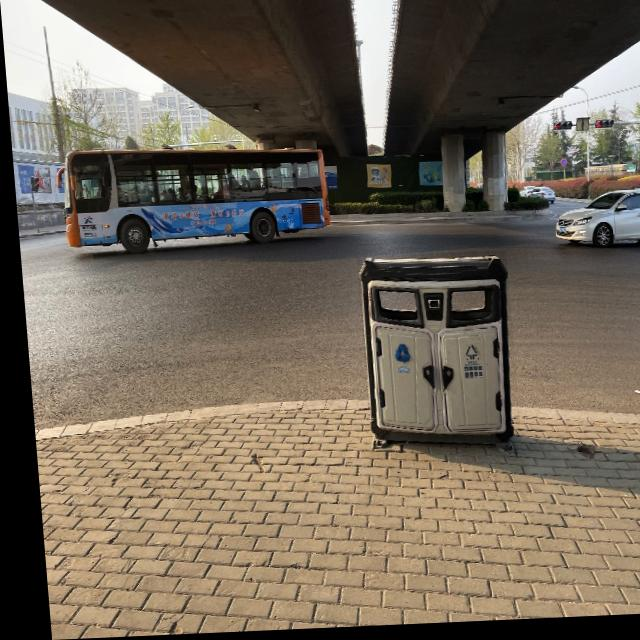garbage_bin: (351, 255, 514, 451)
